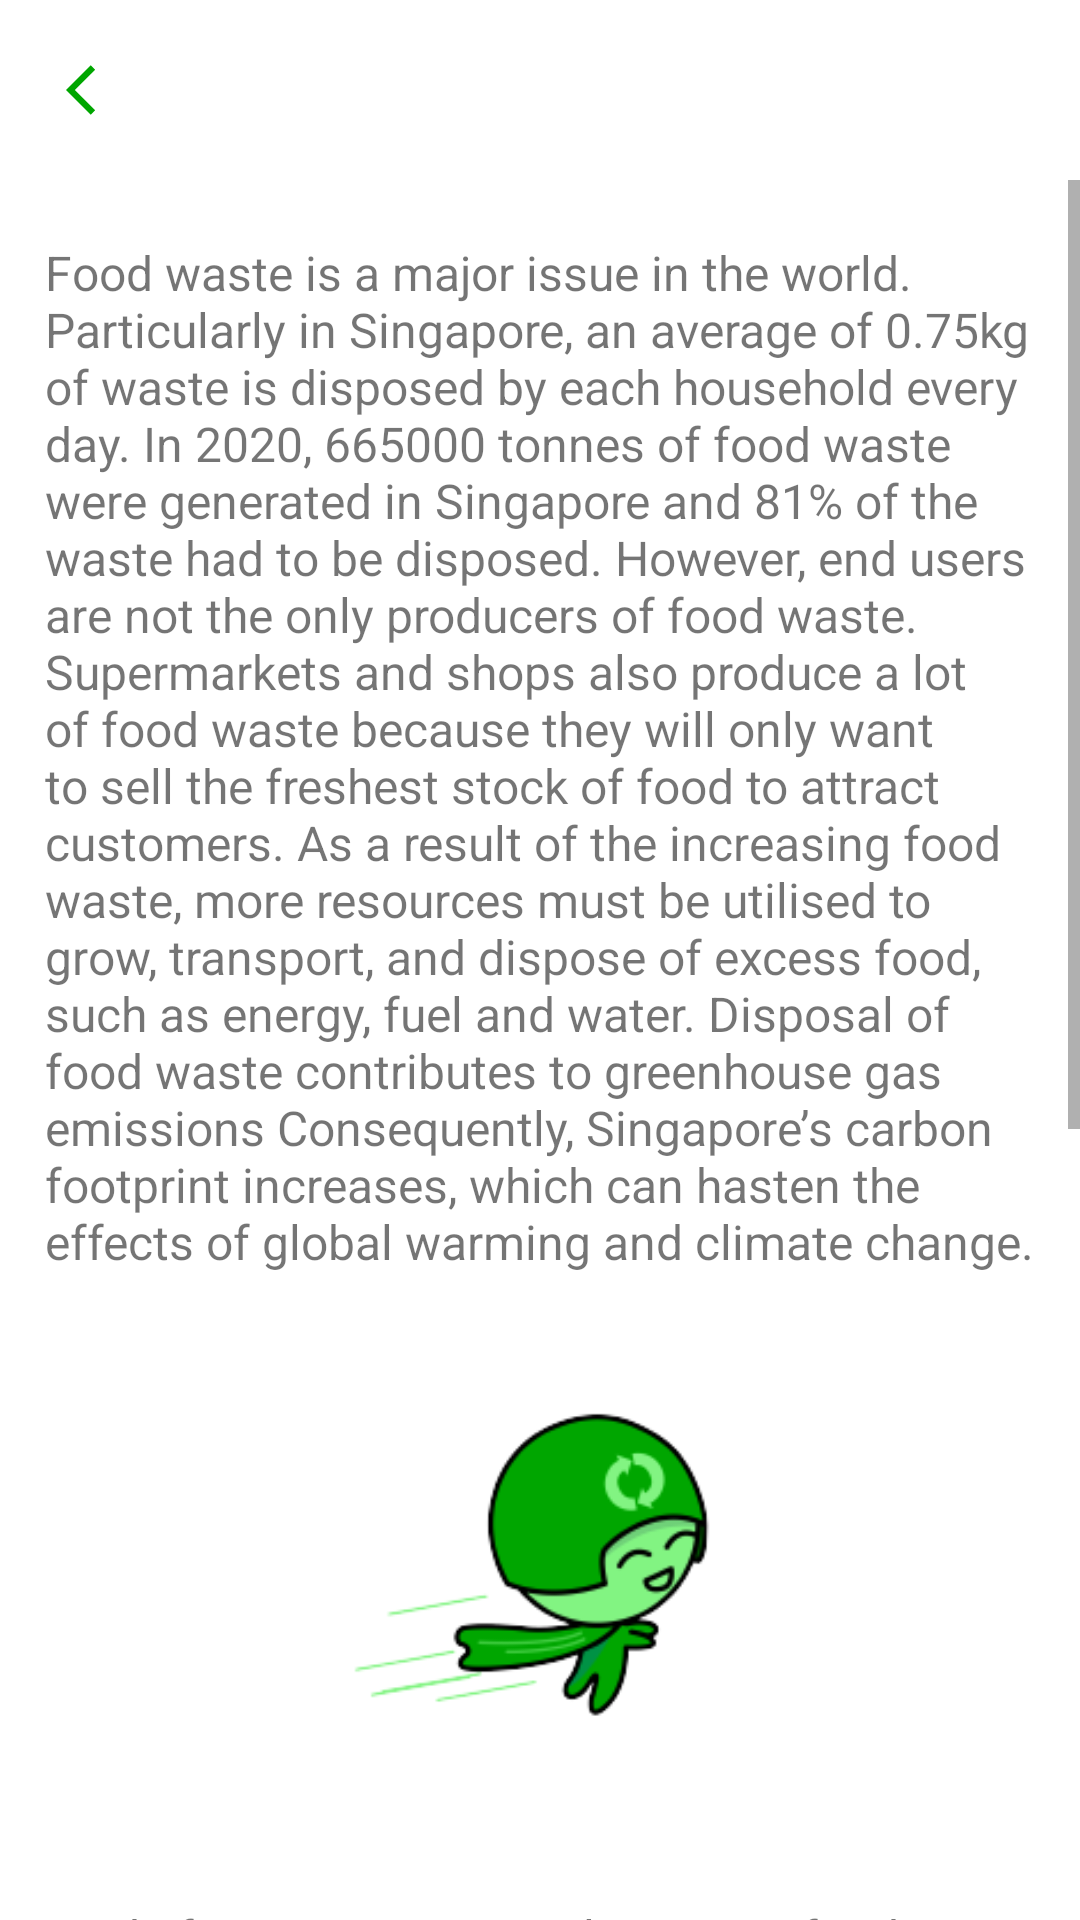

Icon bounding boxes for this 1080w x 1920h phone screenshot, format (x1, y1, x2, y2):
back: (66, 65, 95, 115)
fsflyer: (355, 1413, 709, 1716)
